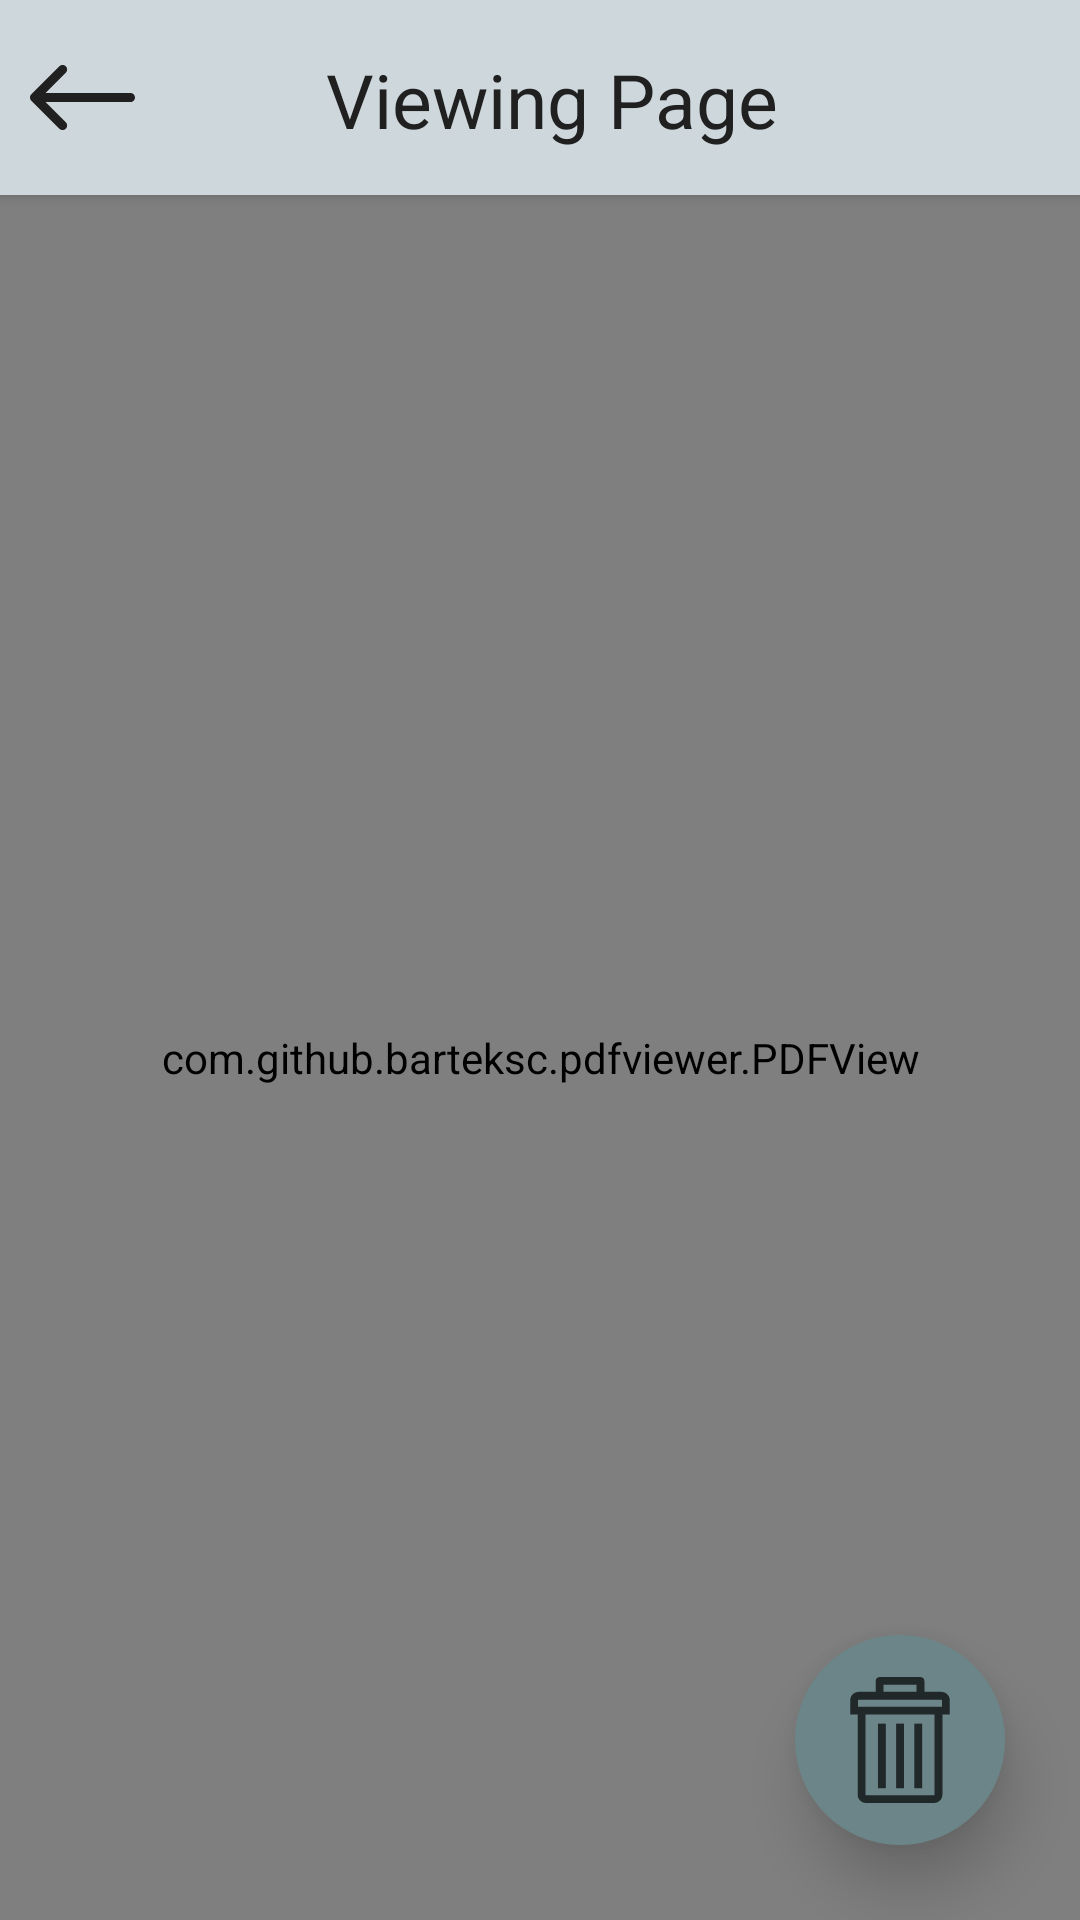

Screen size 1080 x 1920. Icon name, then its box in pixels as bbox=(x1, y1, x2, y2):
back arrow: bbox=(30, 65, 135, 130)
